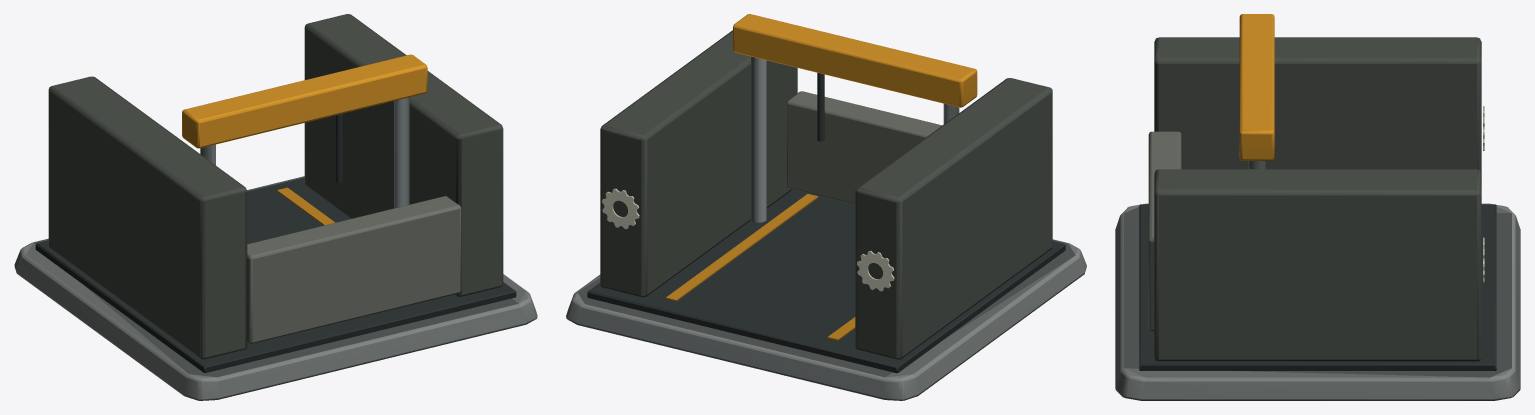
File: RepairDepot.glb
The picture shows the model from 3 angles, left to right: view 1: azimuth 30°, elevation 25°; view 2: azimuth 150°, elevation 25°; view 3: azimuth 270°, elevation 25°; orthographic projection. The views are drawn at different scales.
Visible parts, largest first — view 1: export_RepairDepot_Foundation; view 2: export_RepairDepot_Foundation; view 3: export_RepairDepot_Foundation.
Part boxes in pixels (bbox=[...]): export_RepairDepot_Foundation: bbox=[14, 14, 537, 400]; export_RepairDepot_Foundation: bbox=[566, 14, 1086, 400]; export_RepairDepot_Foundation: bbox=[1115, 14, 1520, 400].
Bounding box in the file's own units: 5.63 × 3.47 × 5.33.
